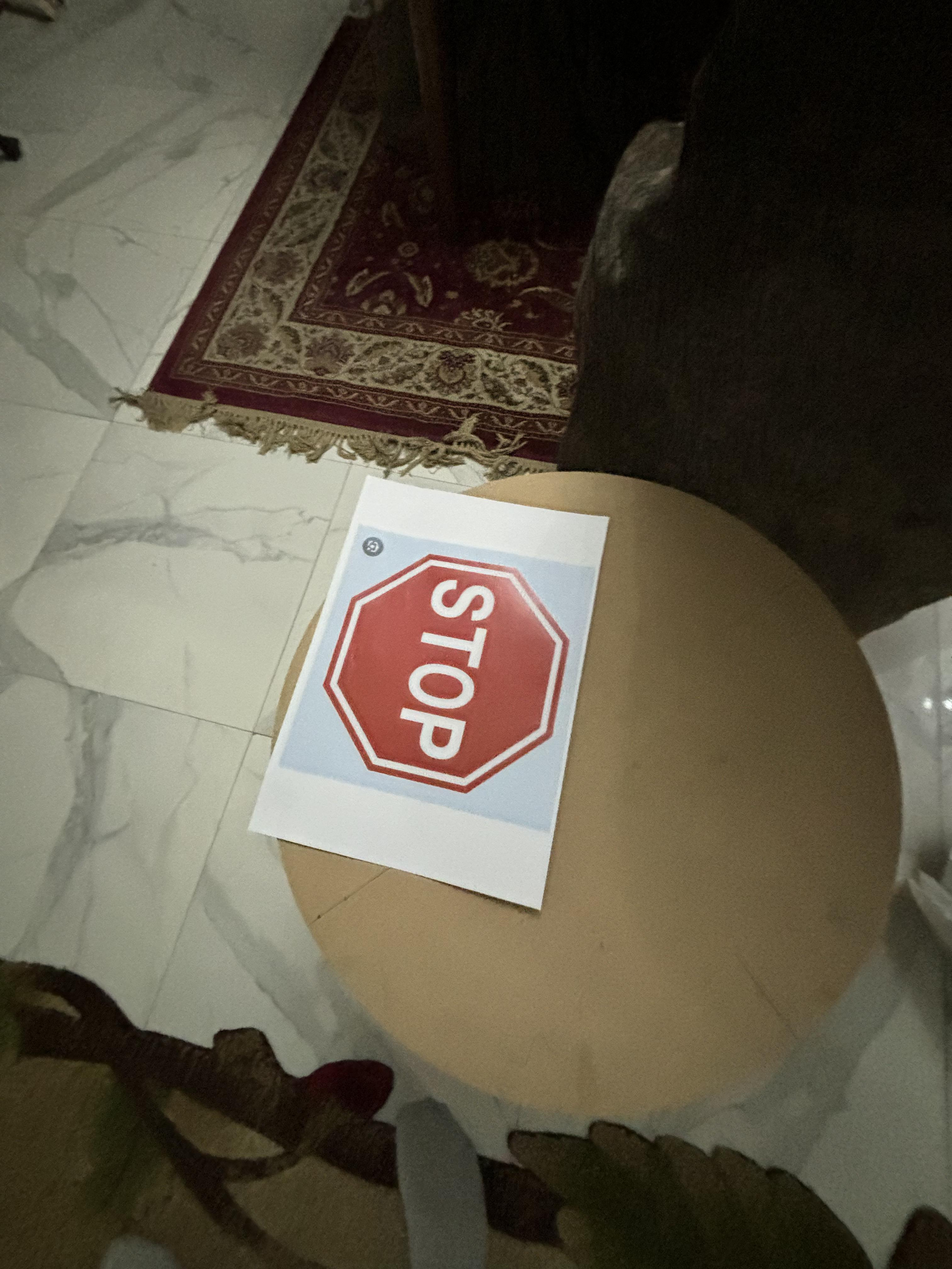Stop: (316, 545, 574, 795)
